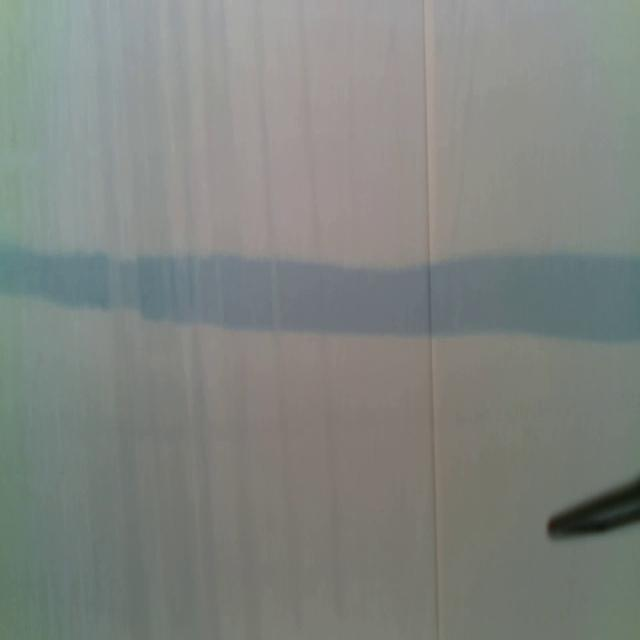color bleeding: (0, 242, 640, 351)
crease: (422, 2, 441, 640)
